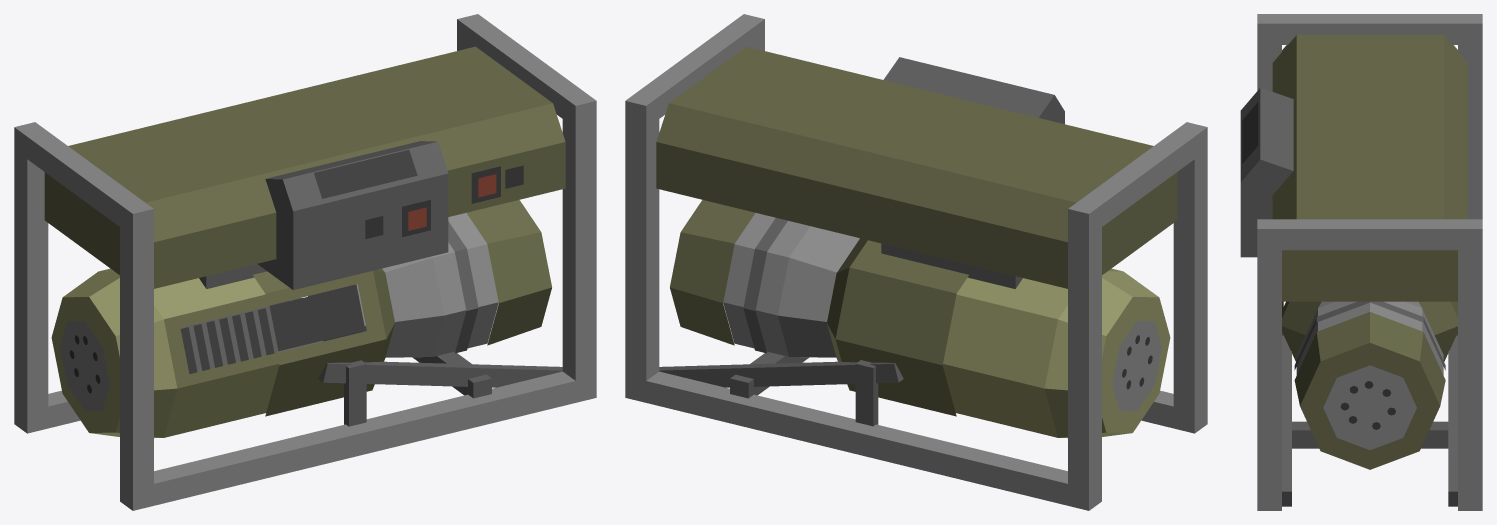
File: generator.glb
3 renders of one model, left to right at view 1: azimuth 30°, elevation 25°; view 2: azimuth 150°, elevation 25°; view 3: azimuth 270°, elevation 25°, orthographic. The views are drawn at different scales.
Parts seen in each view (by area): view 1: Cylinder.001; view 2: Cylinder.001; view 3: Cylinder.001.
Boxes of the visible parts, bbox=[...] form: Cylinder.001: bbox=[14, 14, 596, 510]; Cylinder.001: bbox=[625, 14, 1207, 510]; Cylinder.001: bbox=[1240, 14, 1482, 510].
Bounding box in the file's own units: 2.09 × 1.31 × 1.01.
